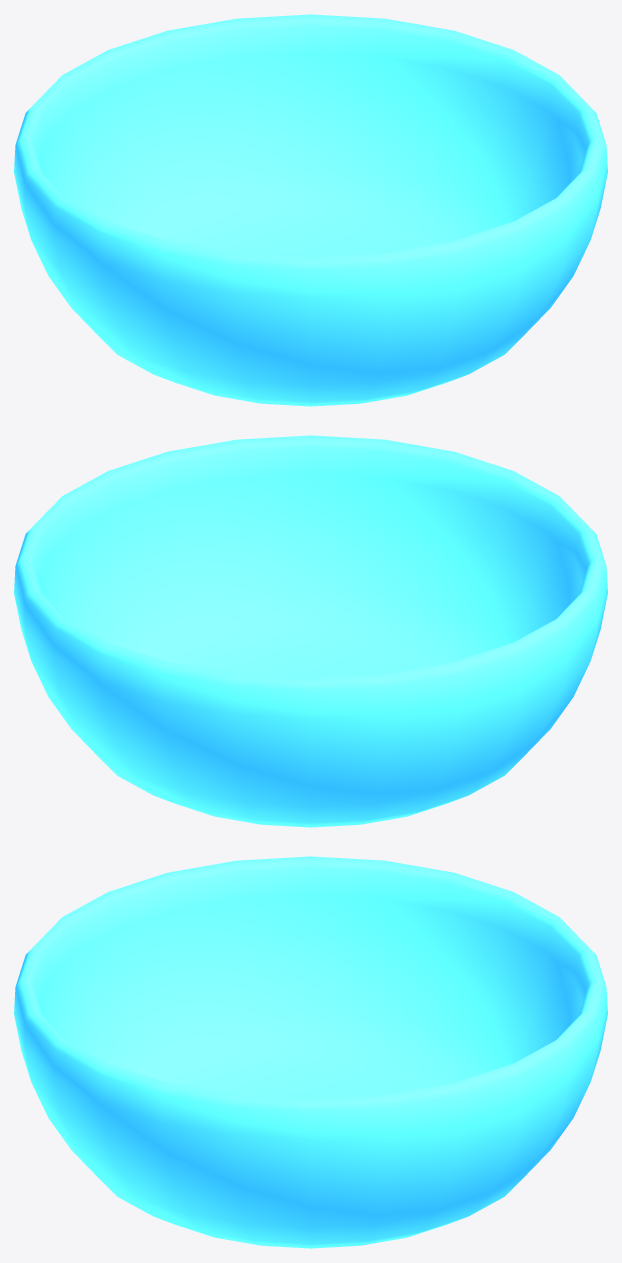
The model's file is Bowl_Model_Story5.fbx.
The picture shows the model from 3 angles, top to bottom: view 1: azimuth 30°, elevation 25°; view 2: azimuth 150°, elevation 25°; view 3: azimuth 270°, elevation 25°; orthographic projection.
Visible parts, largest first — view 1: Cylinder001; view 2: Cylinder001; view 3: Cylinder001.
Part boxes in pixels (x1,y1,x2,y2): Cylinder001: [14, 14, 607, 406]; Cylinder001: [14, 435, 607, 827]; Cylinder001: [14, 856, 607, 1248].
Size of the model in its own units: 29.28 by 12.3 by 29.28.
